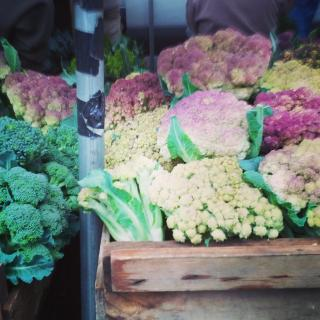Broccoli: (0, 29, 320, 286), (0, 115, 82, 247)
